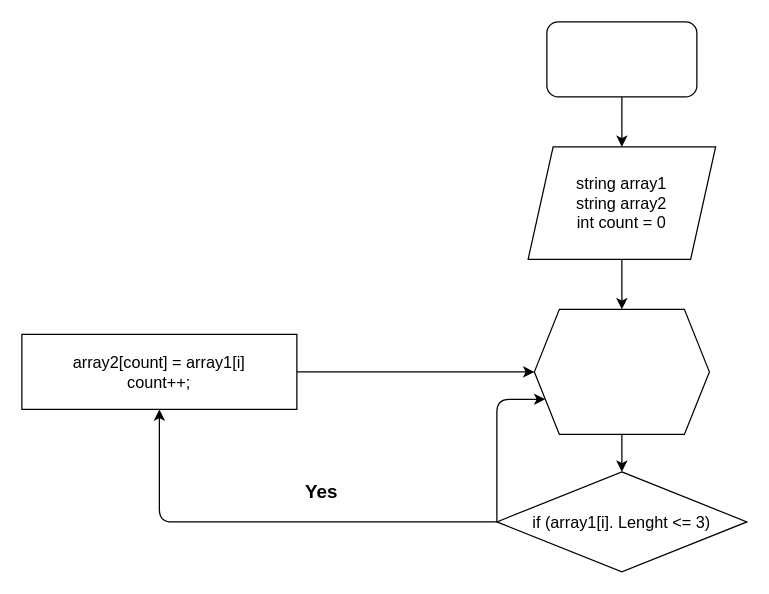
This 769x594 diagram has some shape labels left out. Each missing label, with the centre of its shape:
"for (int i = 0; i < array1.Length; i++)" goes at [621,371].
"SecondArray" goes at [621,59].
